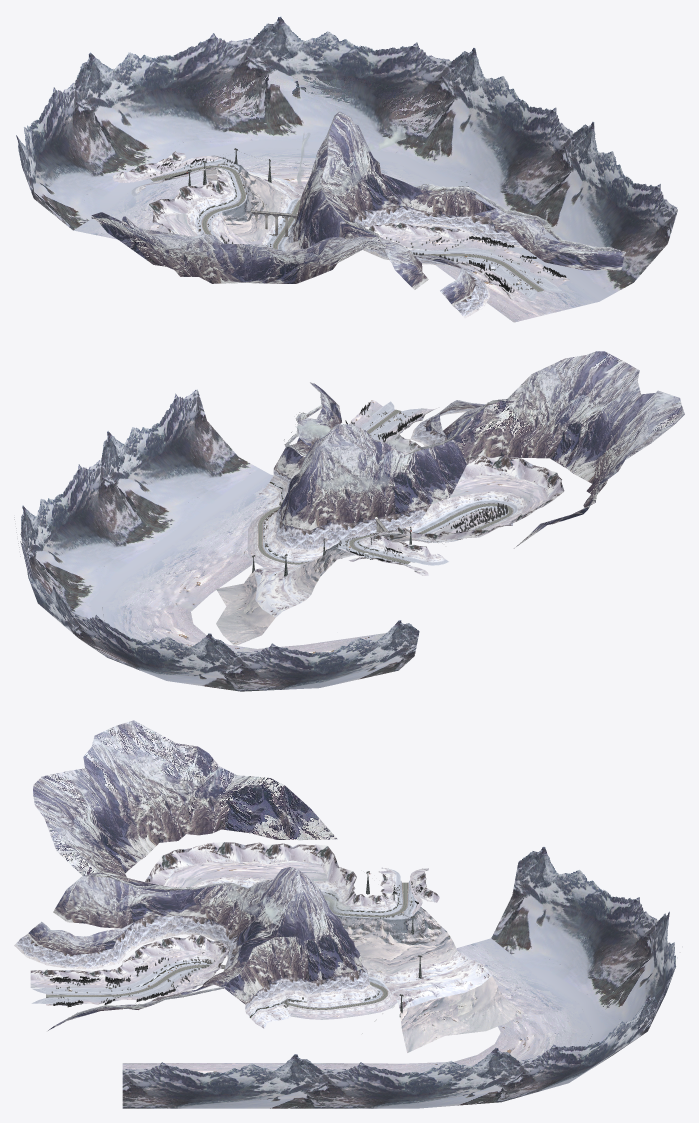
The model's file is stage-snow.glb.
3 views of the same model, one above another, from view 1: azimuth 30°, elevation 25°; view 2: azimuth 150°, elevation 25°; view 3: azimuth 270°, elevation 25° (orthographic). The views are drawn at different scales.
Parts seen in each view (by area): view 1: part 1 chunk -1,-7, part 1 chunk -1,-3, part 1 chunk -5,-3, part 1 chunk -1,-2, part 1 chunk -2,-6, part 1 chunk -4,-4, part 1 chunk -2,-4, part 1 chunk -2,-7, part 1 chunk -3,-5, part 1 chunk -3,-6, part 1 chunk -4,-7, part 1 chunk 0,-3 (+2 smaller); view 2: part 1 chunk -1,-7, part 1 chunk -5,-3, part 1 chunk -2,-4, part 1 chunk -2,-6, part 1 chunk -4,-4, part 1 chunk -2,-7, part 1 chunk -2,-5, part 1 chunk -3,-5, part 1 chunk -1,-2, part 1 chunk -1,-3, part 1 chunk -4,-6, part 4 chunk -2,-5 (+5 smaller); view 3: part 1 chunk -1,-7, part 1 chunk -5,-3, part 1 chunk -1,-3, part 1 chunk -2,-7, part 1 chunk -1,-2, part 1 chunk -2,-6, part 1 chunk -4,-4, part 1 chunk -1,-5, part 1 chunk -2,-4, part 1 chunk 0,-5, part 1 chunk -3,-6, part 1 chunk -3,-5 (+4 smaller).
Part boxes in pixels (x1,y1,x2,y2): part 1 chunk -1,-7: (16, 16, 677, 301); part 1 chunk -1,-3: (320, 111, 625, 305); part 1 chunk -5,-3: (91, 212, 386, 283); part 1 chunk -1,-2: (353, 205, 569, 318); part 1 chunk -2,-6: (73, 149, 598, 322); part 1 chunk -4,-4: (148, 180, 278, 247); part 1 chunk -2,-4: (293, 112, 345, 249); part 1 chunk -2,-7: (202, 163, 302, 233); part 1 chunk -3,-5: (186, 192, 299, 251); part 1 chunk -3,-6: (112, 156, 299, 234); part 1 chunk -4,-7: (113, 151, 225, 179); part 1 chunk 0,-3: (416, 181, 551, 232); part 1 chunk -1,-7: (14, 389, 419, 691); part 1 chunk -5,-3: (452, 351, 684, 548); part 1 chunk -2,-4: (281, 424, 466, 530); part 1 chunk -2,-6: (102, 474, 386, 654); part 1 chunk -4,-4: (395, 455, 564, 543); part 1 chunk -2,-7: (216, 524, 389, 645); part 1 chunk -2,-5: (263, 502, 508, 562); part 1 chunk -3,-5: (263, 491, 527, 561); part 1 chunk -1,-2: (311, 400, 471, 454); part 1 chunk -1,-3: (291, 382, 485, 454); part 1 chunk -4,-6: (353, 530, 448, 565); part 4 chunk -2,-5: (314, 467, 390, 493); part 1 chunk -1,-7: (122, 847, 675, 1108); part 1 chunk -5,-3: (33, 720, 337, 892); part 1 chunk -1,-3: (27, 867, 314, 1031); part 1 chunk -2,-7: (333, 911, 524, 1052); part 1 chunk -1,-2: (14, 916, 237, 1005); part 1 chunk -2,-6: (122, 938, 592, 1073); part 1 chunk -4,-4: (145, 842, 356, 914); part 1 chunk -1,-5: (224, 936, 329, 1007); part 1 chunk -2,-4: (299, 870, 362, 979); part 1 chunk 0,-5: (245, 977, 336, 1028); part 1 chunk -3,-6: (324, 869, 422, 1018); part 1 chunk -3,-5: (190, 877, 382, 1006).
Bounding box in the file's own units: 3158 × 1017 × 3571.
88 materials, 86 textured.
